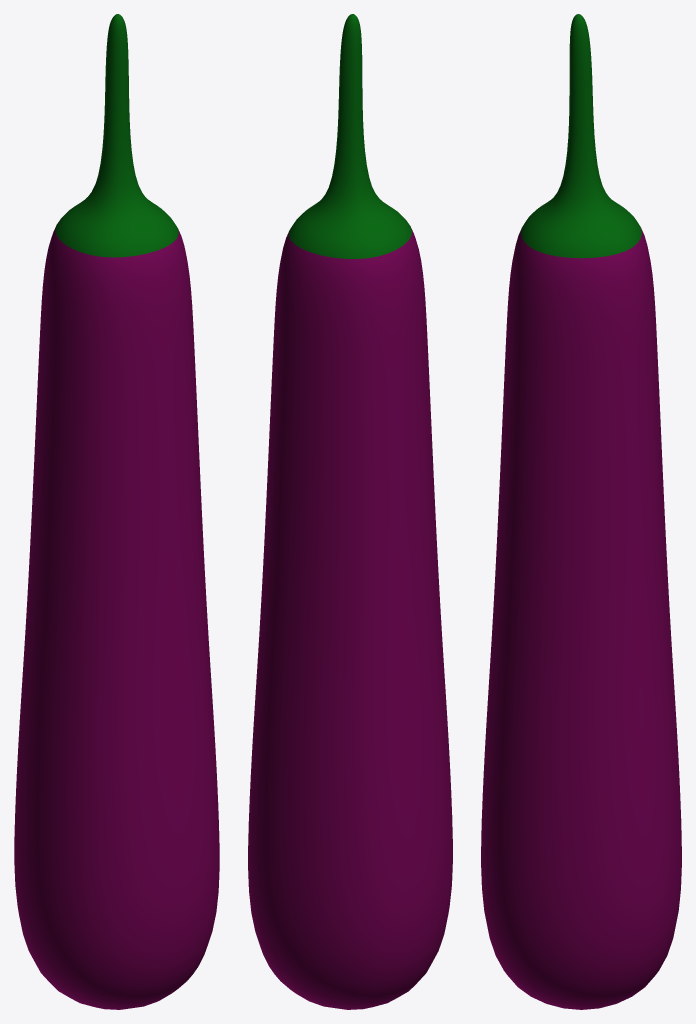
Rendered from eggplant2.fbx.
3 views of the same model, side by side, from view 1: azimuth 30°, elevation 25°; view 2: azimuth 150°, elevation 25°; view 3: azimuth 270°, elevation 25° (orthographic).
Parts seen in each view (by area): view 1: Cube; view 2: Cube; view 3: Cube.
Part boxes in pixels (box(x1,y1,x2,y2)): Cube: box(14, 14, 219, 1009); Cube: box(248, 14, 452, 1009); Cube: box(481, 14, 681, 1009).
Bounding box in the file's own units: 181 × 979 × 181.
